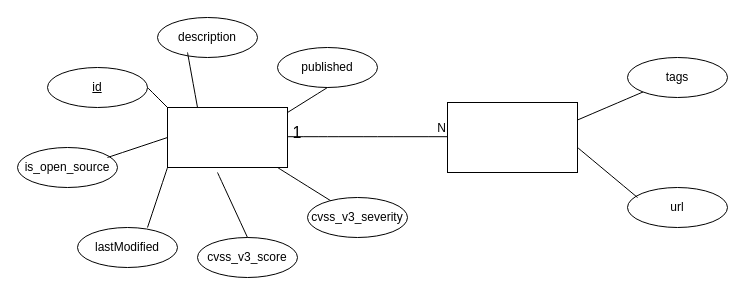
Some shapes in this 745 by 295 pixel diagram are drawn without their labels. The shapes that lost their labels are listed below. From the top down, each one's centre as x and y in pixels, then its label:
point (227, 137): CVE
point (512, 137): patch refernces
